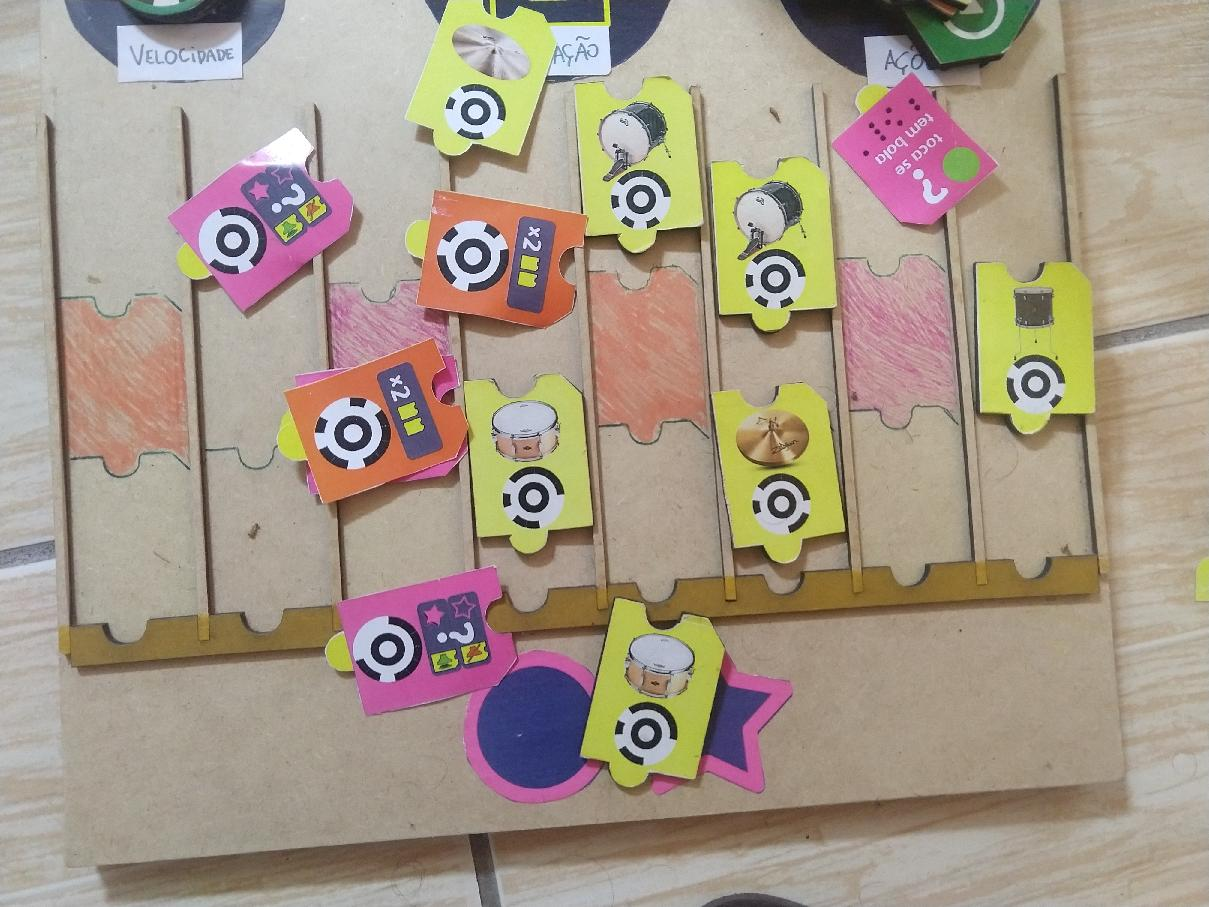bumbo: (568, 65, 701, 264), (706, 148, 837, 340)
